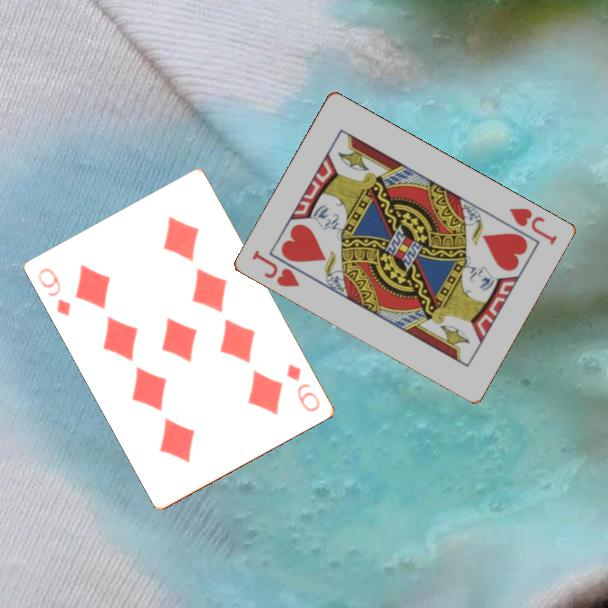d09: (283, 360, 324, 415), (34, 265, 74, 320)
h11: (505, 204, 560, 248), (248, 246, 302, 290)
